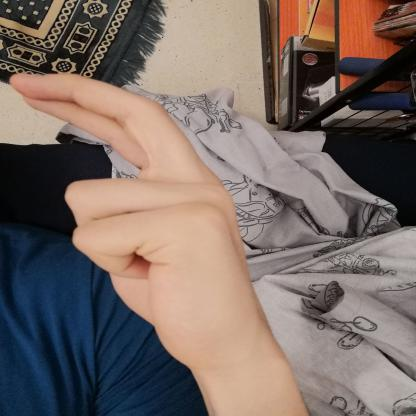ZAY: (4, 64, 294, 382)
